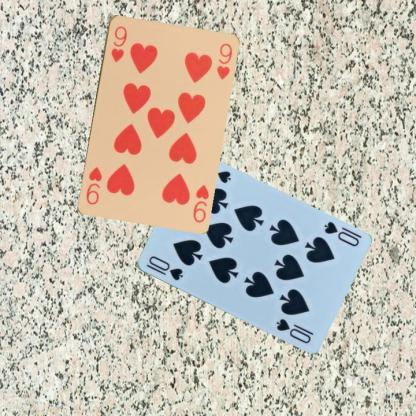10s: (144, 253, 184, 282), (321, 219, 360, 248)
9h: (190, 182, 210, 224), (108, 23, 128, 64)
